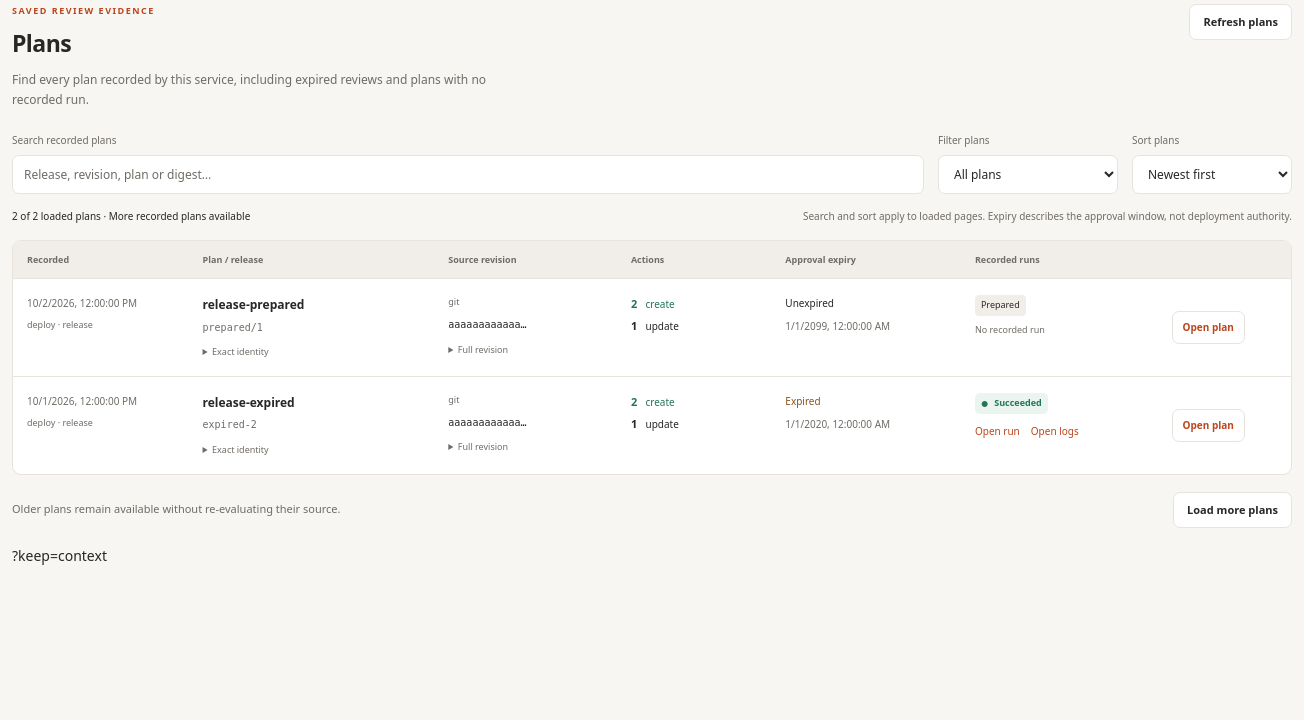
Scenario: loads additional pages explicitly and keeps scope, search, status and sort in the URL
Expected: the row named "Plan prepared/1" is shown, left=13, top=279, right=1291, bottom=376
Click the button "Load more plans" at (1233, 510), box left=1173, top=492, right=1292, bottom=528
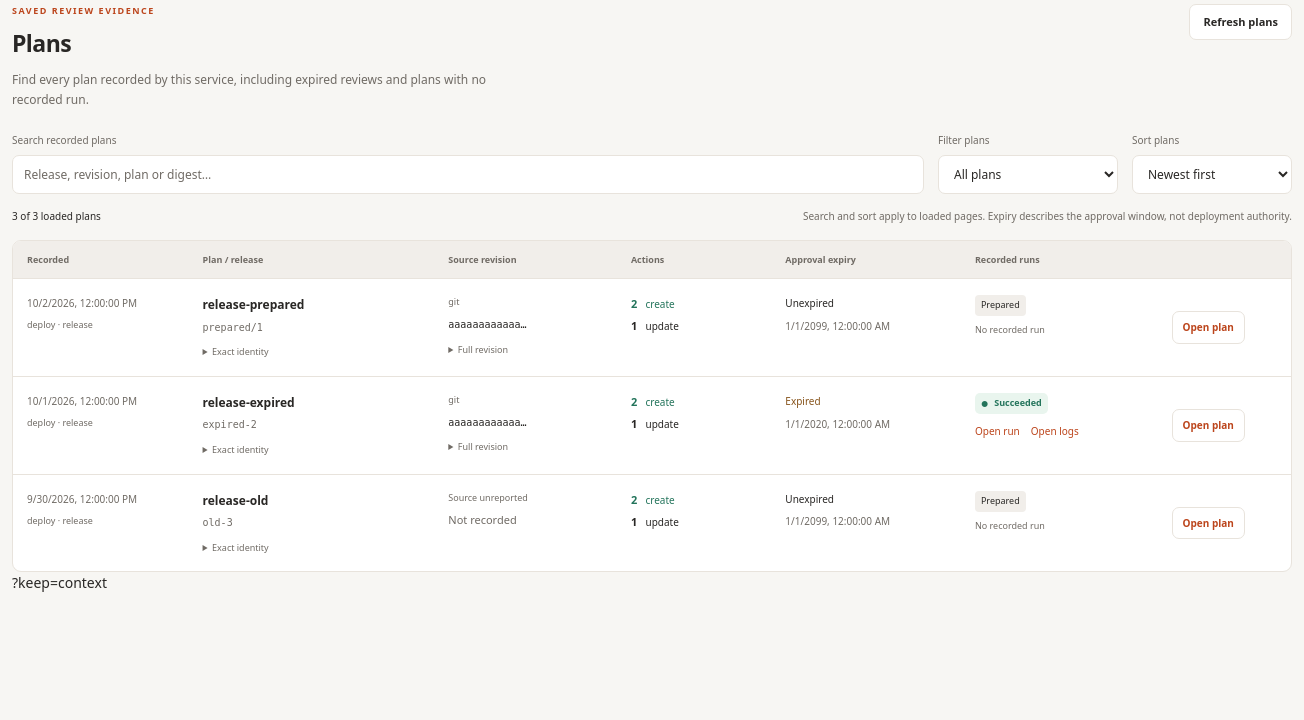
Now the row named "Plan old-3" is shown, box left=13, top=474, right=1291, bottom=572
Select "Oldest first" in the dropdown labelled "Sort plans" at (1212, 174), box left=1132, top=155, right=1292, bottom=194
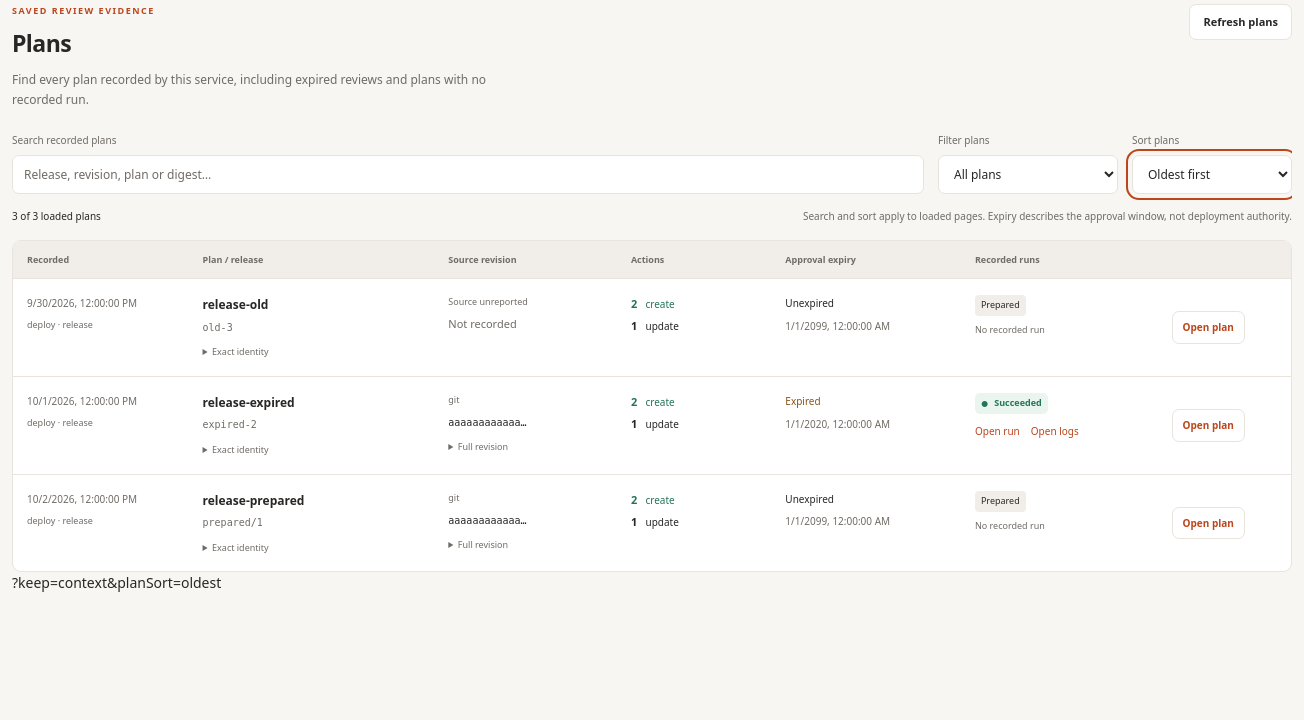
Select "Expired" in the dropdown labelled "Filter plans" at (1028, 174), box left=938, top=155, right=1118, bottom=194
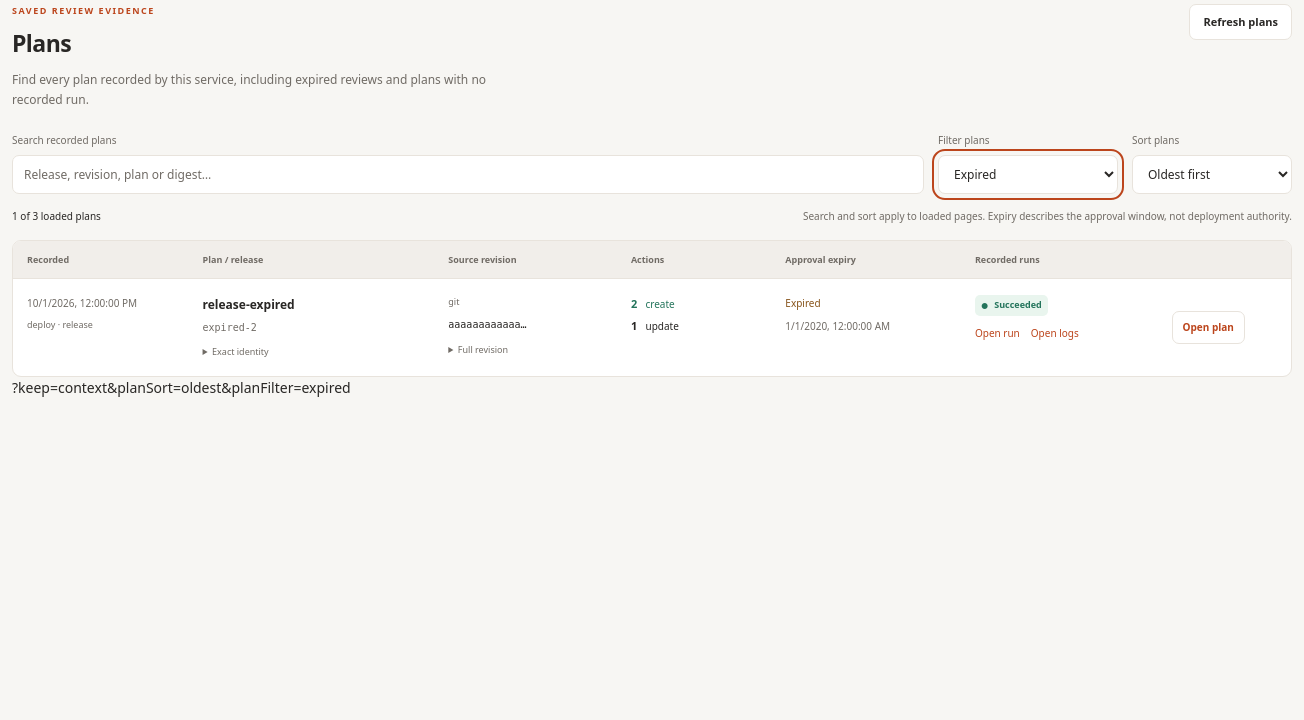
Type "release-expired" into the search field labelled "Search recorded plans" at (468, 175), box left=12, top=155, right=924, bottom=194
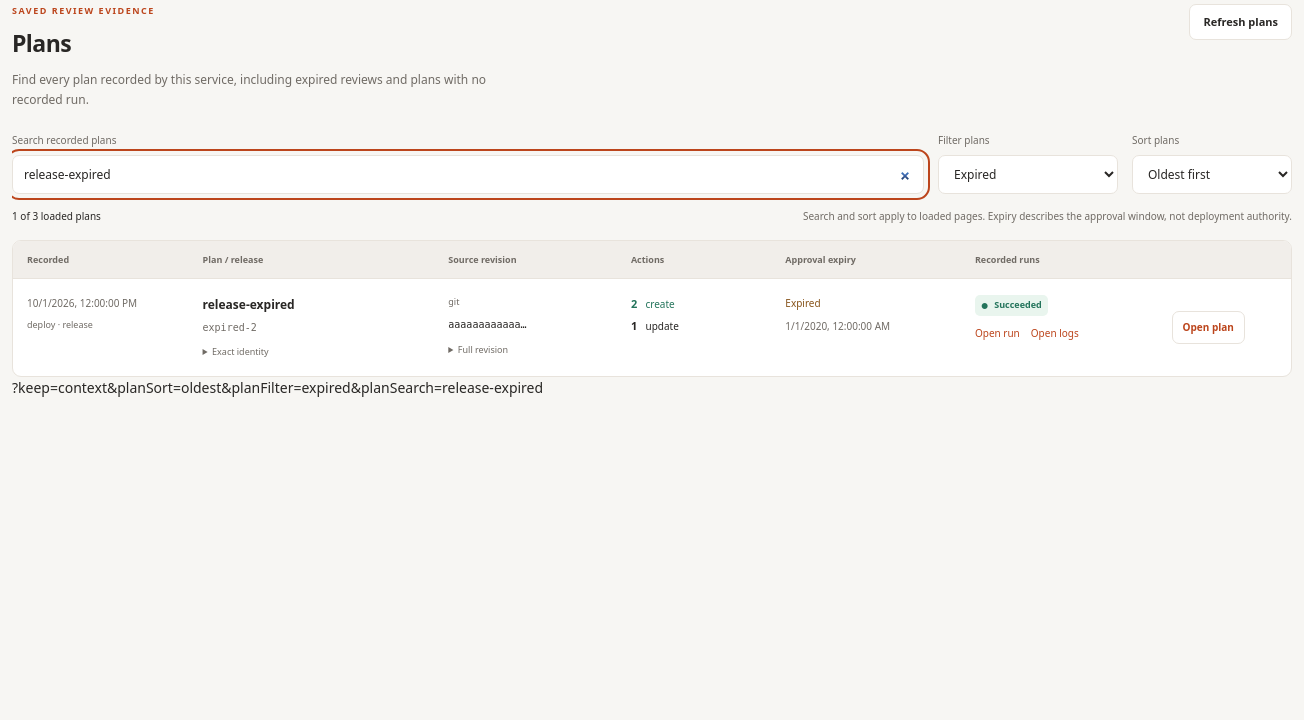
Now the text named "Archive address" shows "planSort=oldest", box left=12, top=378, right=543, bottom=397
Now the text named "Archive address" shows "planFilter=expired", box left=12, top=378, right=543, bottom=397
Now the text named "Archive address" shows "planSearch=release-expired", box left=12, top=378, right=543, bottom=397
